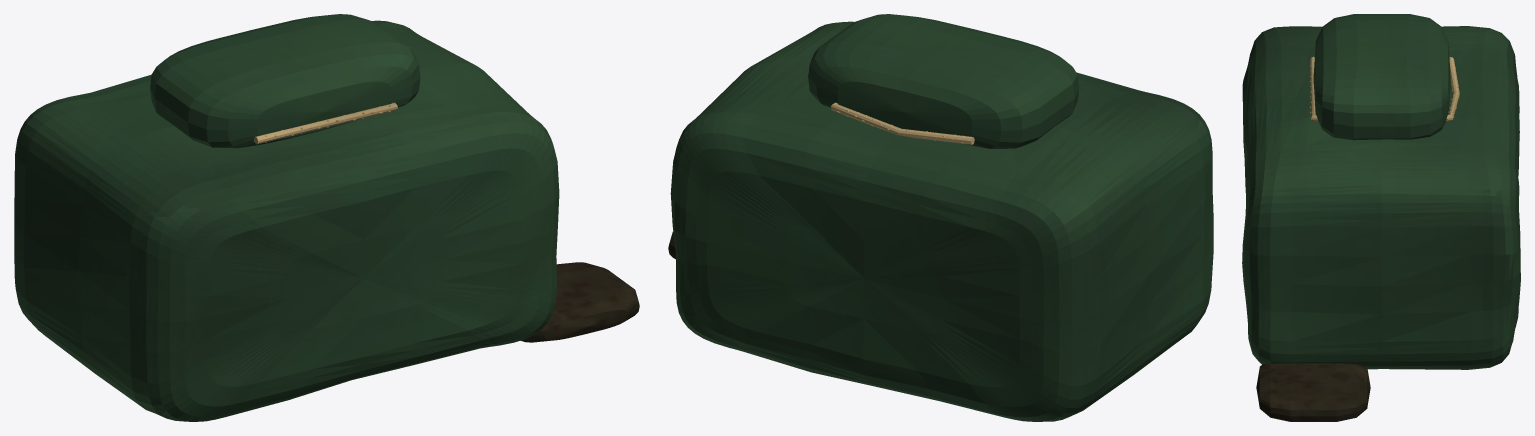
The model's file is adubo.glb.
3 renders of one model, left to right at view 1: azimuth 30°, elevation 25°; view 2: azimuth 150°, elevation 25°; view 3: azimuth 270°, elevation 25°, orthographic. The views are drawn at different scales.
Visible parts, largest first — view 1: adubo_rafia_verde, adubo_verde_compostagem, adubo_corda; view 2: adubo_rafia_verde, adubo_corda; view 3: adubo_rafia_verde, adubo_verde_compostagem, adubo_corda.
Boxes of the visible parts, bbox=[...] form: adubo_rafia_verde: bbox=[14, 14, 559, 421]; adubo_verde_compostagem: bbox=[520, 262, 639, 342]; adubo_corda: bbox=[254, 102, 397, 144]; adubo_rafia_verde: bbox=[670, 14, 1213, 421]; adubo_corda: bbox=[831, 102, 974, 144]; adubo_rafia_verde: bbox=[1242, 14, 1520, 369]; adubo_verde_compostagem: bbox=[1256, 363, 1370, 421]; adubo_corda: bbox=[1310, 56, 1459, 121].
Bounding box in the file's own units: 0.4408 × 0.2472 × 0.2438.
3 materials, 3 textured.
